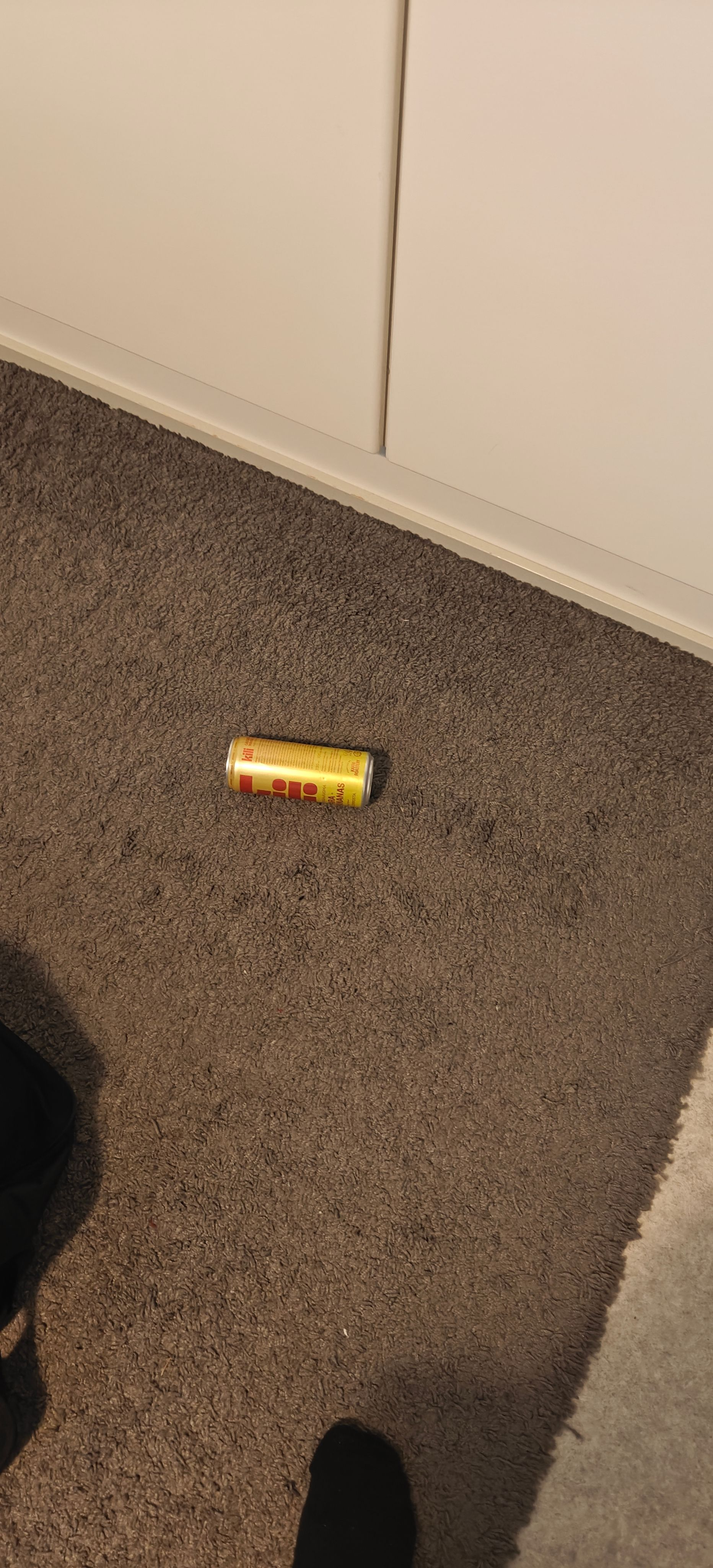Pantburk: (226, 737, 374, 807)
